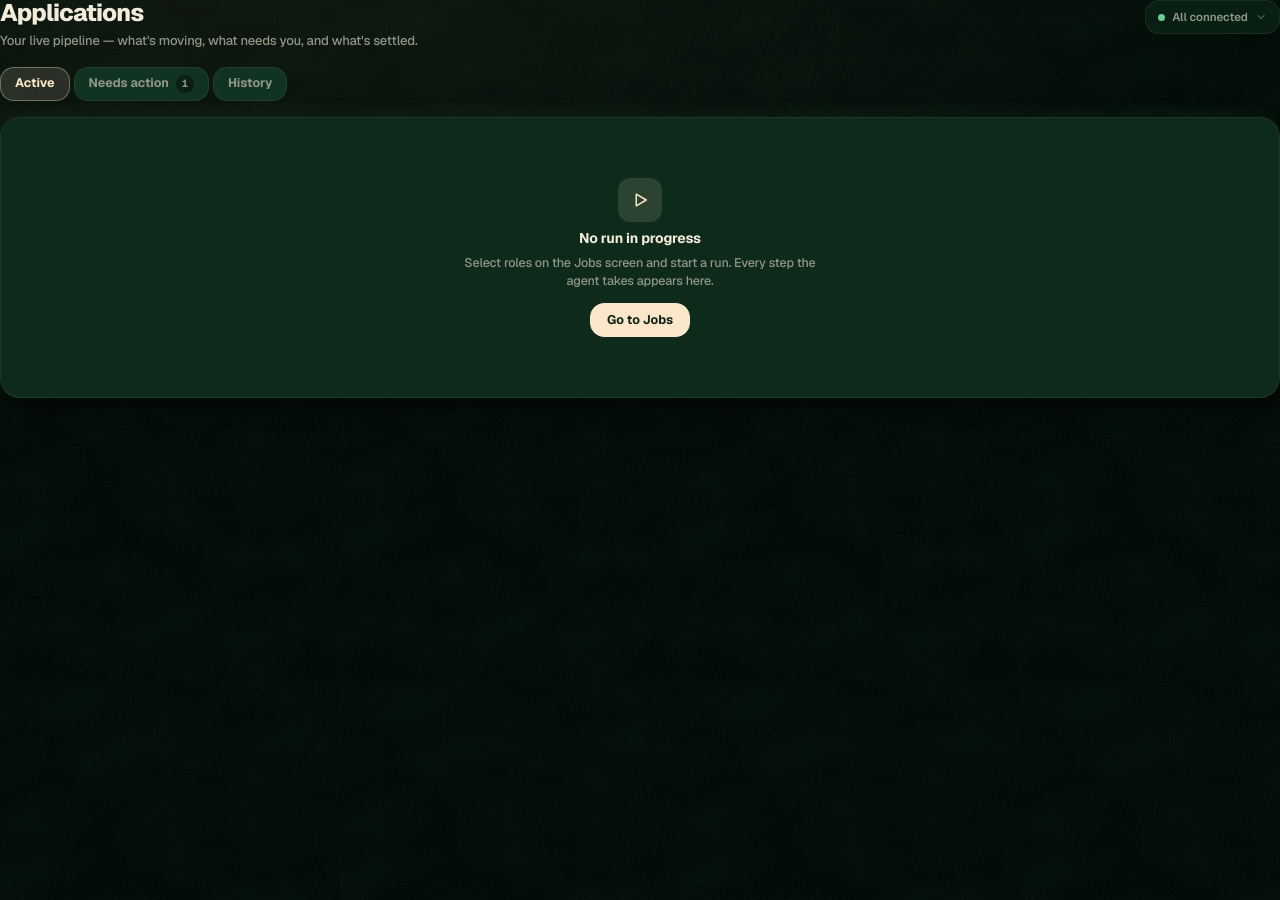
ApplicationsPage — merged Active / Needs action / History › Needs action tab shows pending_review applications with an Approve action
The image size is (1280, 900).
Click the tab "Needs action 1". click: (141, 84)
box: [74,67,209,101]
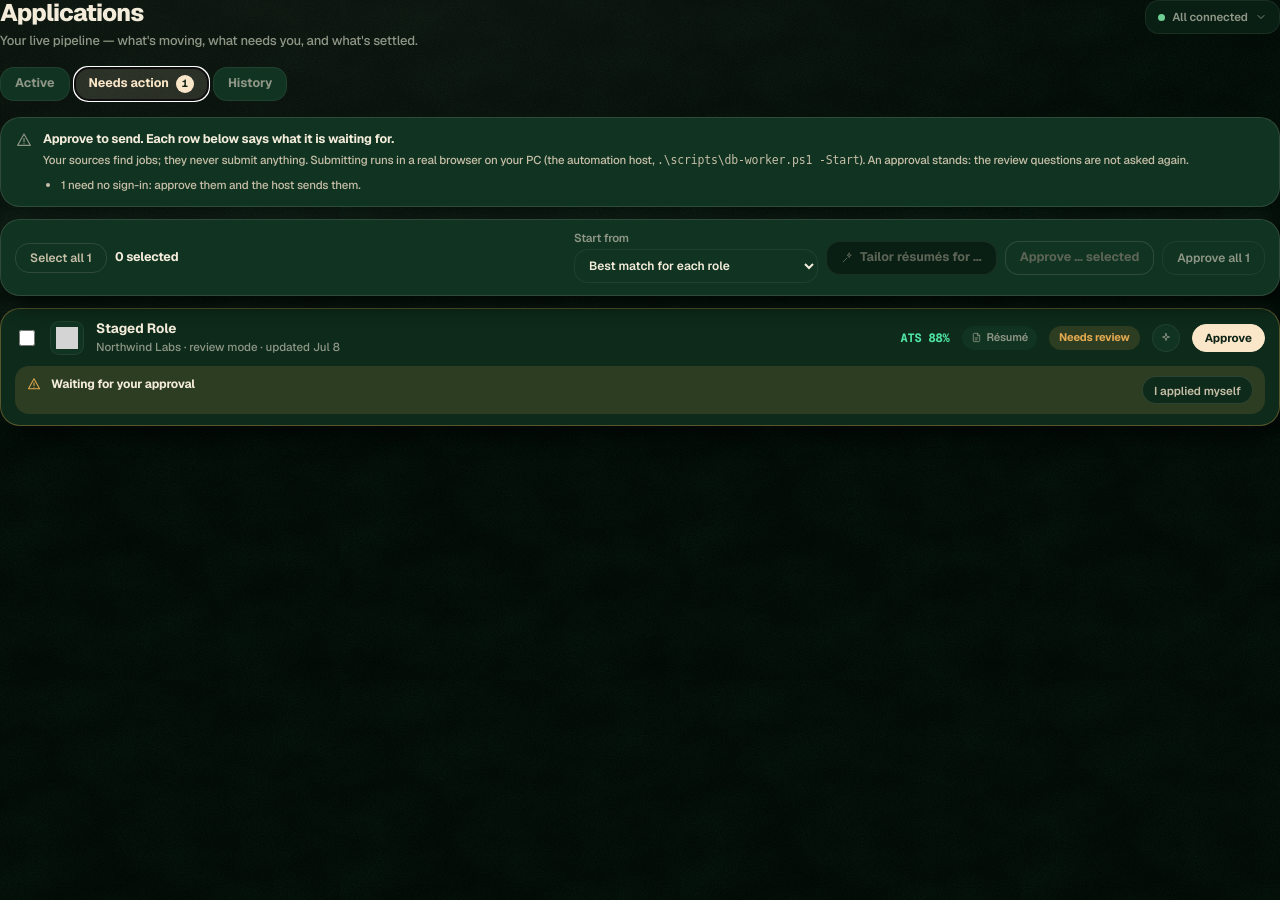
Expected: the text "Staged Role" is shown, [96,320,176,338]
Expected: the button "Approve" is shown, [1192,324,1265,352]
